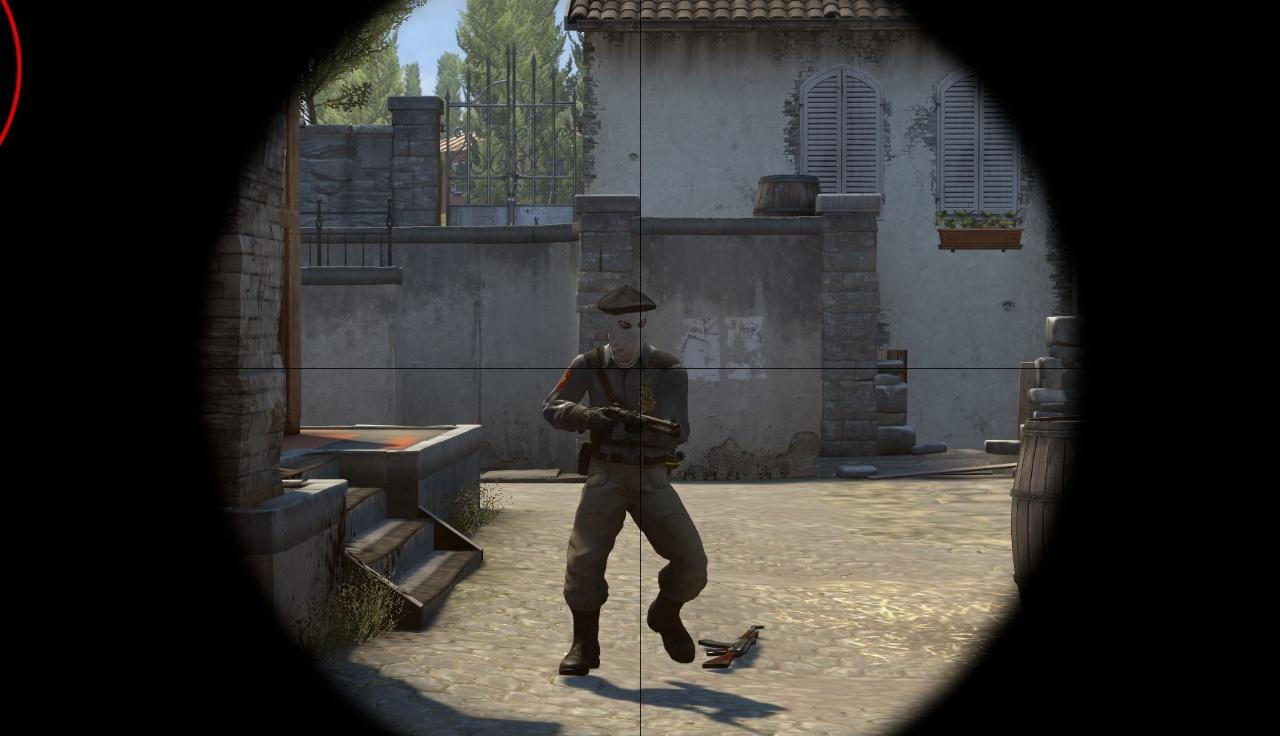tt: (545, 286, 706, 671)
tthead: (598, 286, 656, 369)
